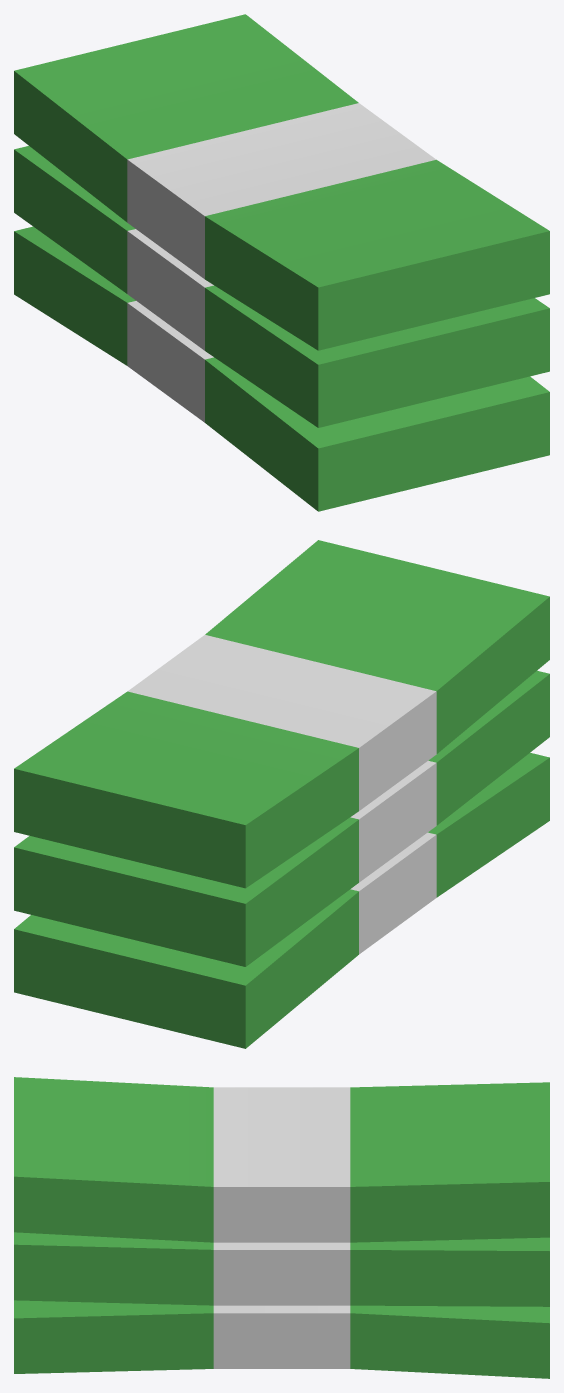
Rendered from MONEY_GREEN.fbx.
3 views of the same model, one above another, from view 1: azimuth 30°, elevation 25°; view 2: azimuth 150°, elevation 25°; view 3: azimuth 270°, elevation 25° (orthographic). The views are drawn at different scales.
Parts seen in each view (by area): view 1: pCube5; view 2: pCube5; view 3: pCube5.
Part boxes in pixels (x1,y1,x2,y2): pCube5: [14, 14, 549, 511]; pCube5: [14, 540, 549, 1048]; pCube5: [14, 1077, 549, 1378].
Bounding box in the file's own units: 1.25 × 1.19 × 2.85.
